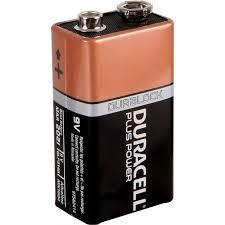9V: (42, 0, 182, 225)
